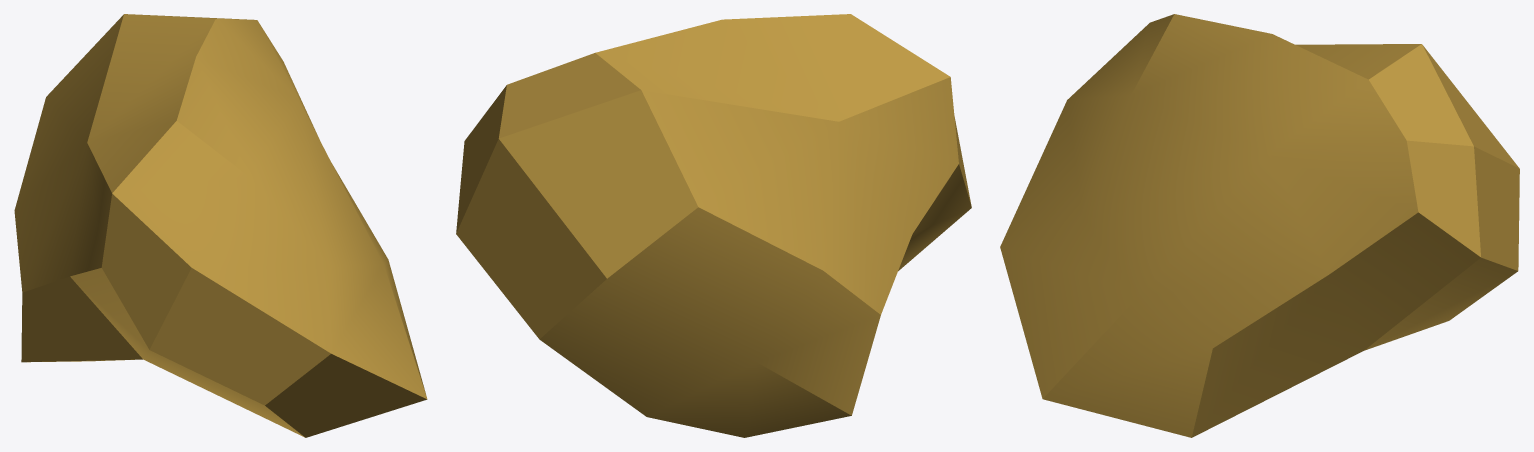
File: rock5.fbx
3 views of the same model, side by side, from view 1: azimuth 30°, elevation 25°; view 2: azimuth 150°, elevation 25°; view 3: azimuth 270°, elevation 25° (orthographic). The views are drawn at different scales.
Visible parts, largest first — view 1: rock5; view 2: rock5; view 3: rock5.
Boxes of the visible parts, <box> form: rock5: <box>14,14,427,437</box>; rock5: <box>456,14,971,437</box>; rock5: <box>1000,14,1519,437</box>.
Size of the model in its own units: 1.52 by 1.53 by 2.05.
